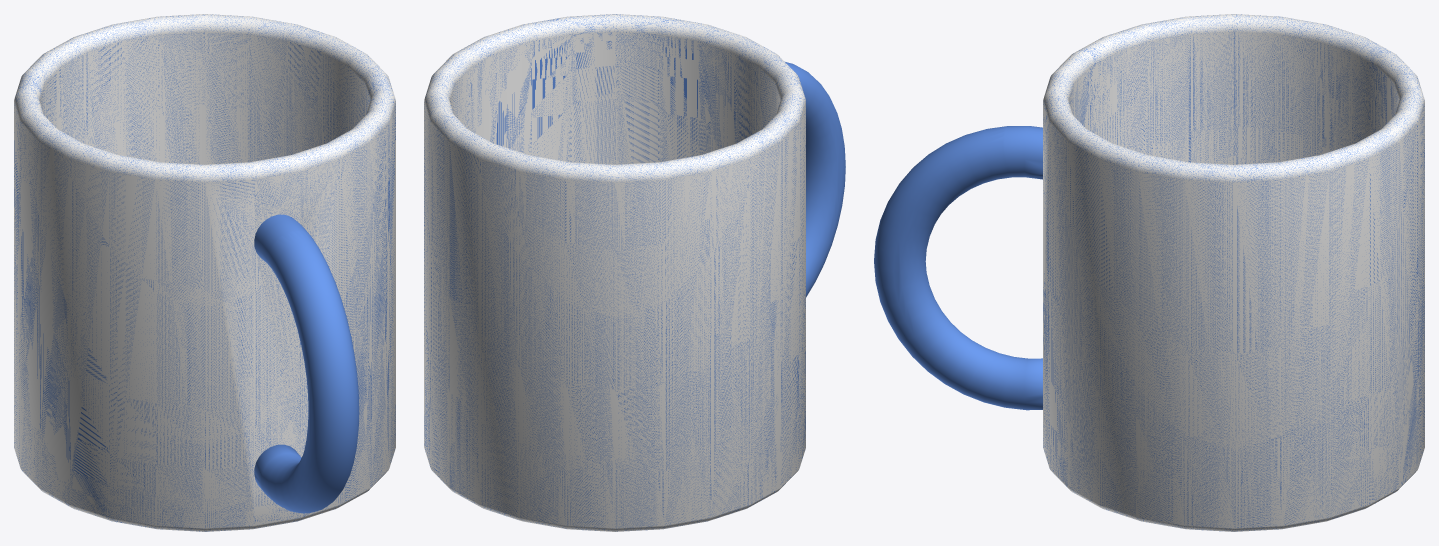
Rendered from cup.dae.
3 views of the same model, side by side, from view 1: azimuth 30°, elevation 25°; view 2: azimuth 150°, elevation 25°; view 3: azimuth 270°, elevation 25° (orthographic).
Visible parts, largest first — view 1: SketchUp (×2); view 2: SketchUp (×2); view 3: SketchUp (×2).
Part boxes in pixels (left/top/right/bottom): SketchUp (×2): left=14, top=14, right=395, bottom=531; SketchUp (×2): left=424, top=14, right=845, bottom=531; SketchUp (×2): left=874, top=14, right=1424, bottom=531.
Size of the model in its own units: 79.37 by 114 by 83.62.
